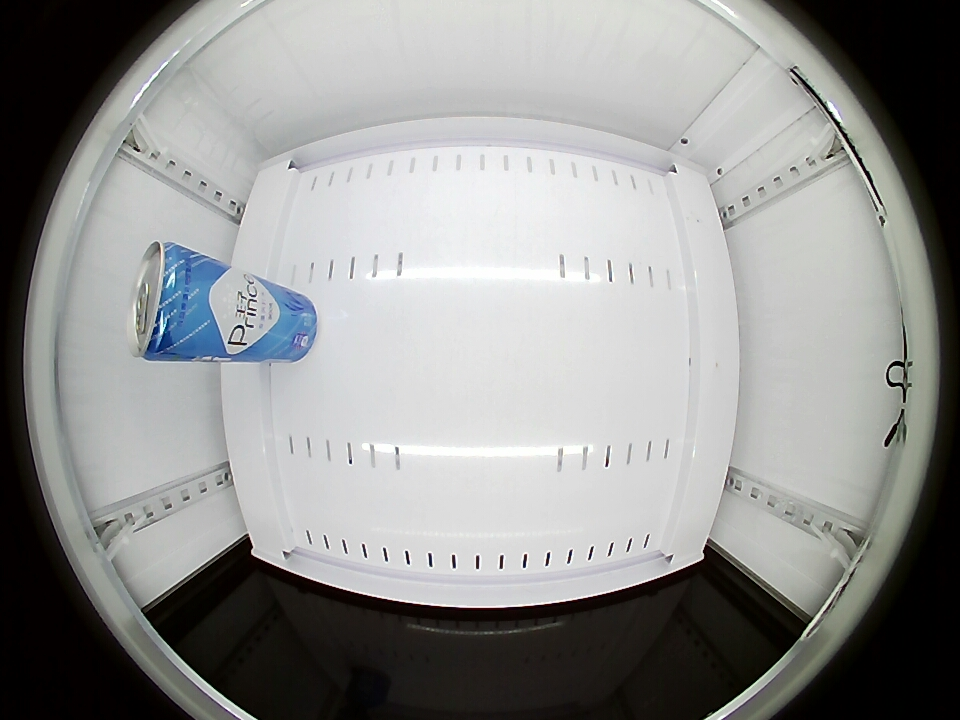qingdaowangzi-2: (130, 241, 212, 362)
